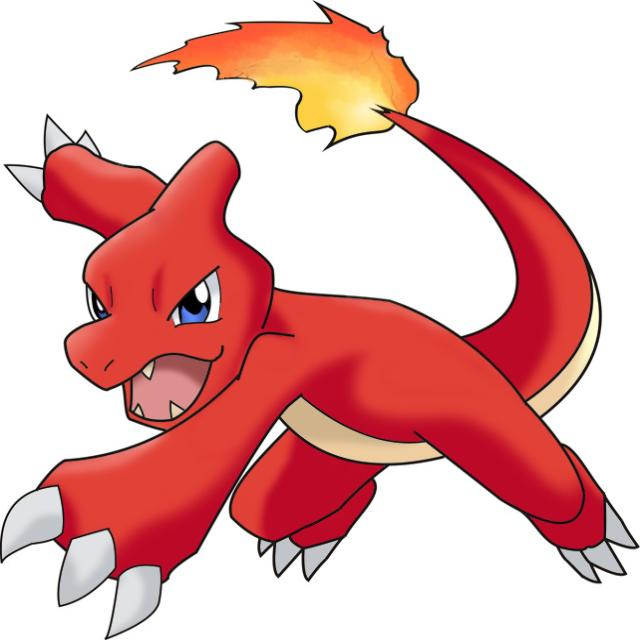Charmeleon: (28, 107, 566, 521)
